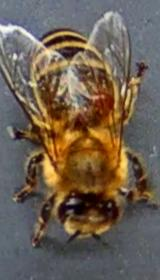varroa_mite: (80, 90, 114, 118)
